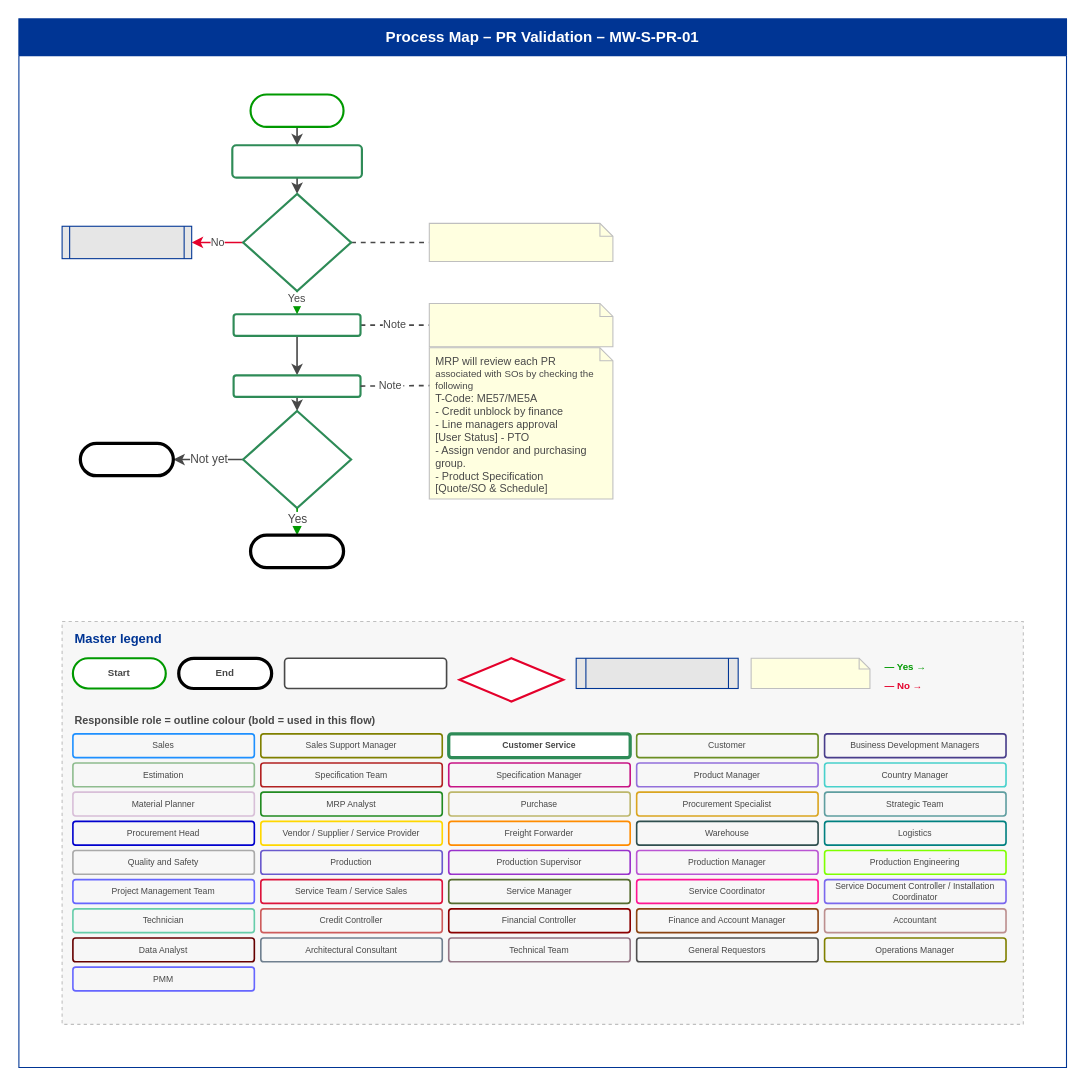
Some shapes in this 1085 by 1086 pixel diagram are drawn without their labels. The shapes that lost their labels are listed below. From the top down, each one's centre as x and y in pixels, then its label:
point (296, 110): Order-to-Invoice
point (296, 161): Daily Validate Planned order
point (126, 242): Modify SS & VSF Ref: PP-M-SS-01
point (296, 242): To be processed
point (520, 242): Check if SS to be updated as per Consumption
point (296, 324): Convert to PR
point (520, 324): Planned order for Stock-to-order is converted to PR T-Code: MD15
point (296, 385): Validate all open PR
point (126, 459): Put on hold until Validated
point (296, 459): PR Qualified
point (296, 551): PO Creation & Expedition
point (365, 673): Activity (outline = role)
point (511, 679): Decision
point (656, 672): Linked process (Ref ID)
point (810, 672): Note / checklist
